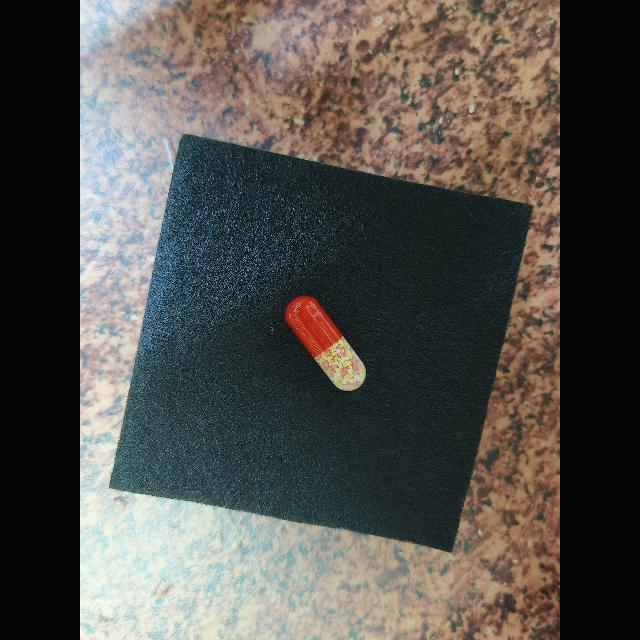Intact Capsule: (285, 295, 366, 391)
